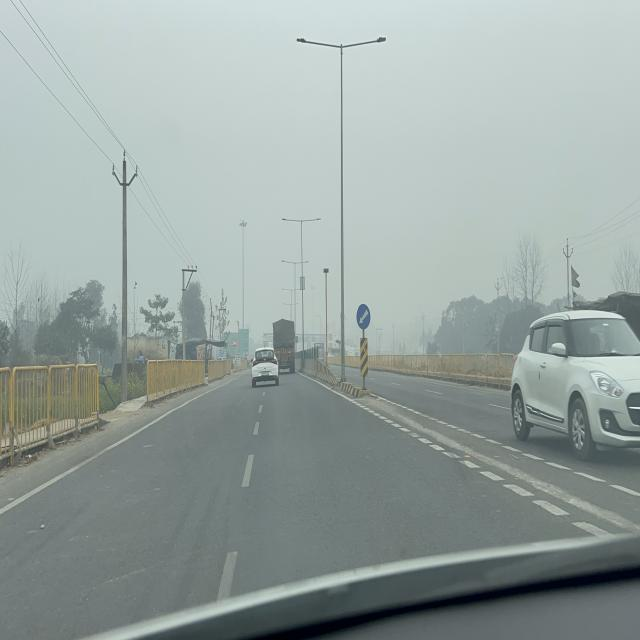KEEP_LEFT: (356, 303, 371, 330)
